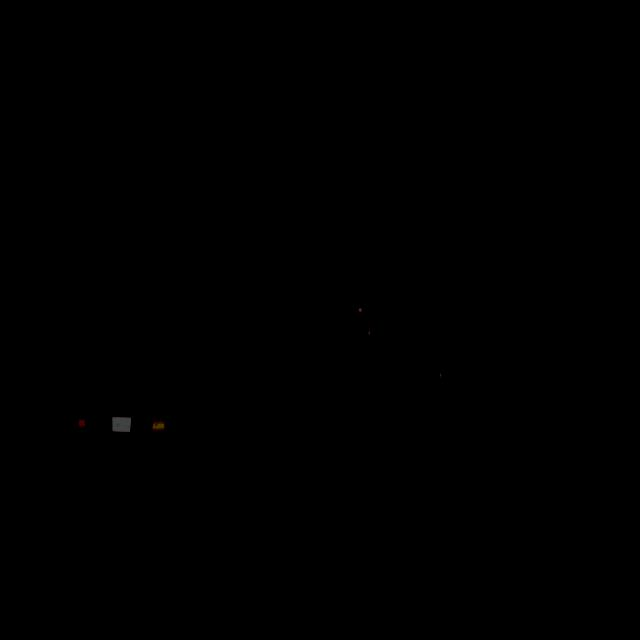Car: (76, 357, 230, 489)
